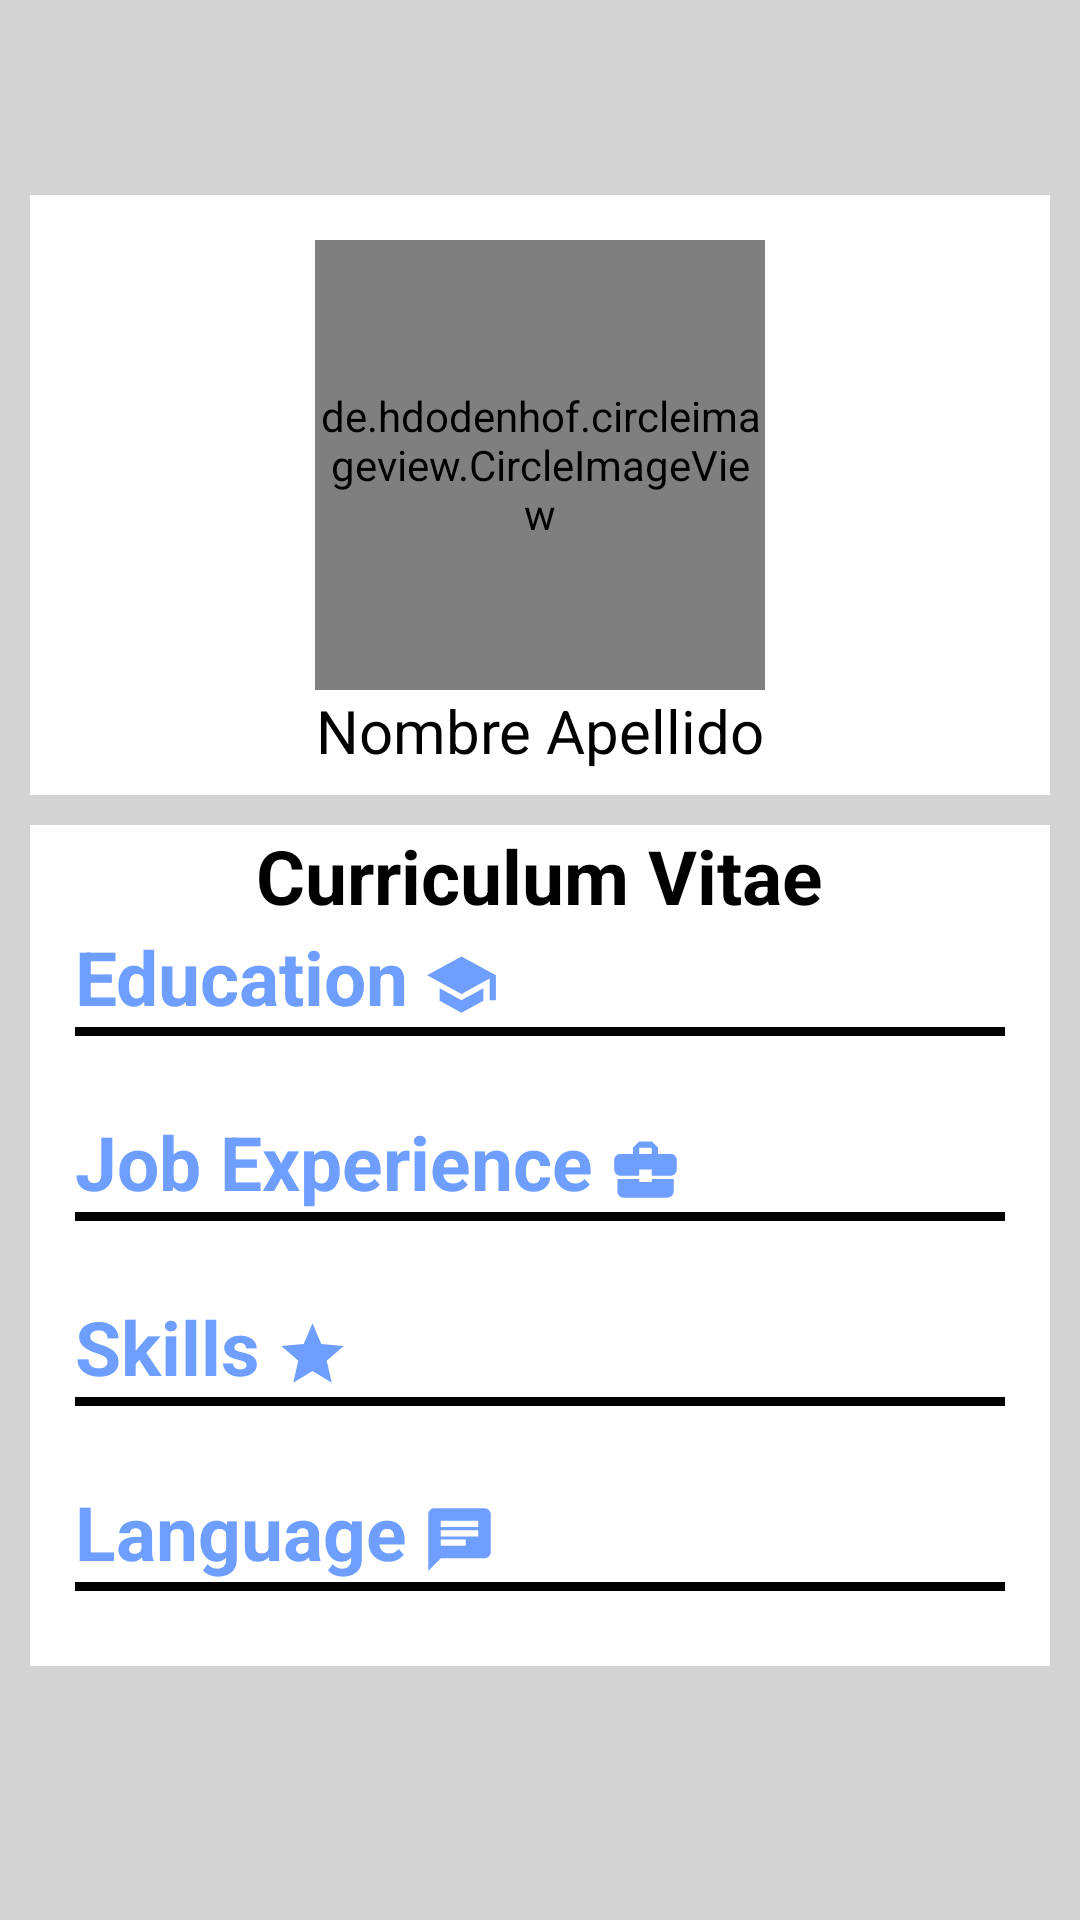

Point at icon controls on the screen. Image size 1080w x 1920h, points as (x=x, y=y).
business center: (x=645, y=1169)
chat: (x=459, y=1539)
school: (x=461, y=984)
star: (x=312, y=1353)
